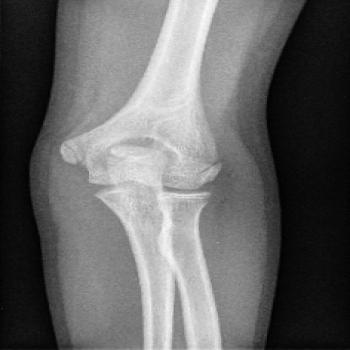Fracture: (188, 155, 244, 180)
